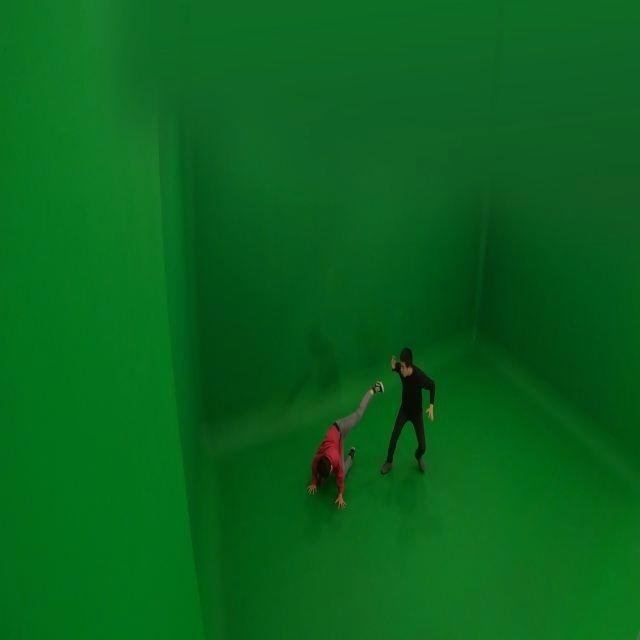fight: (308, 346, 438, 514)
